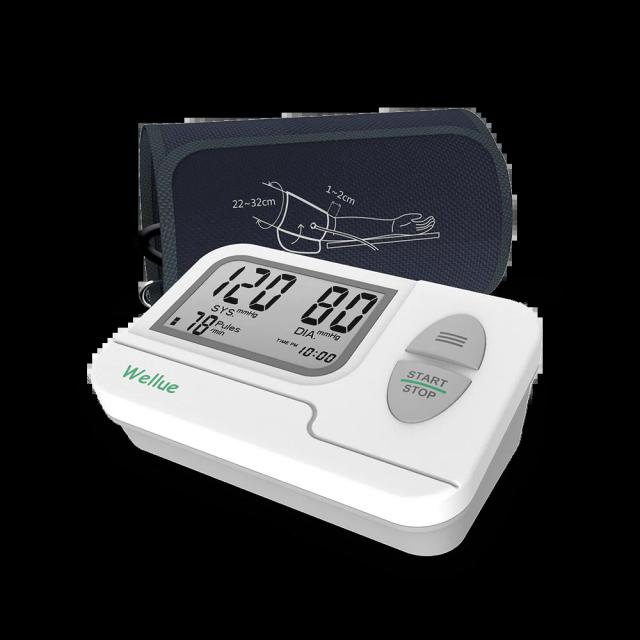dia: (292, 273, 385, 341)
pul: (178, 303, 222, 341)
ssd: (152, 243, 390, 387)
sys: (200, 252, 300, 321)
